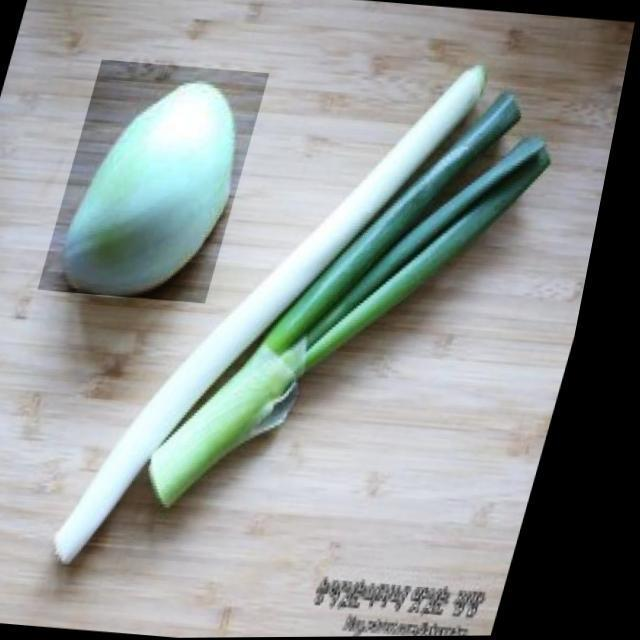Onion: (46, 58, 274, 304)
